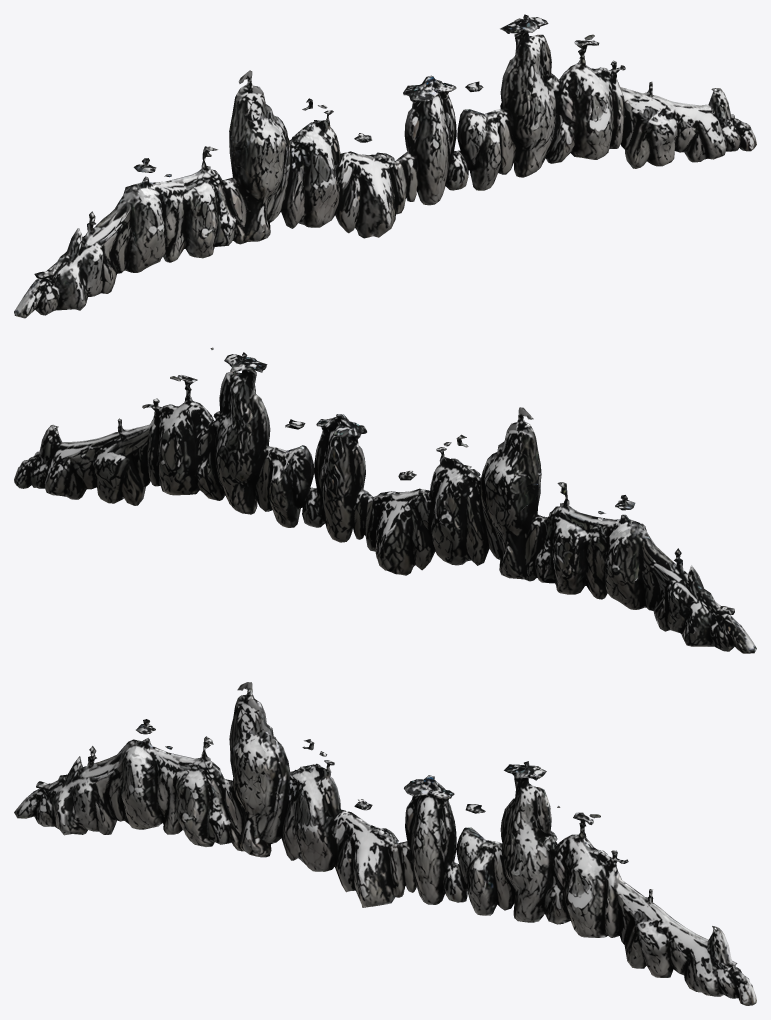
Rendered from InkPart08_LowRidge.fbx.
3 renders of one model, top to bottom at view 1: azimuth 30°, elevation 25°; view 2: azimuth 150°, elevation 25°; view 3: azimuth 330°, elevation 25°, orthographic.
Visible parts, largest first — view 1: texture_mapping; view 2: texture_mapping; view 3: texture_mapping.
Boxes of the visible parts, <box> form: texture_mapping: <box>14,14,756,318</box>; texture_mapping: <box>14,347,756,653</box>; texture_mapping: <box>14,682,756,1005</box>.
Size of the model in its own units: 1 by 0.0716 by 0.2597.
1 material, 1 textured.
